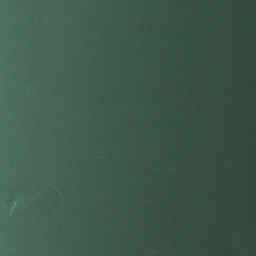con: (4, 177, 69, 219)
